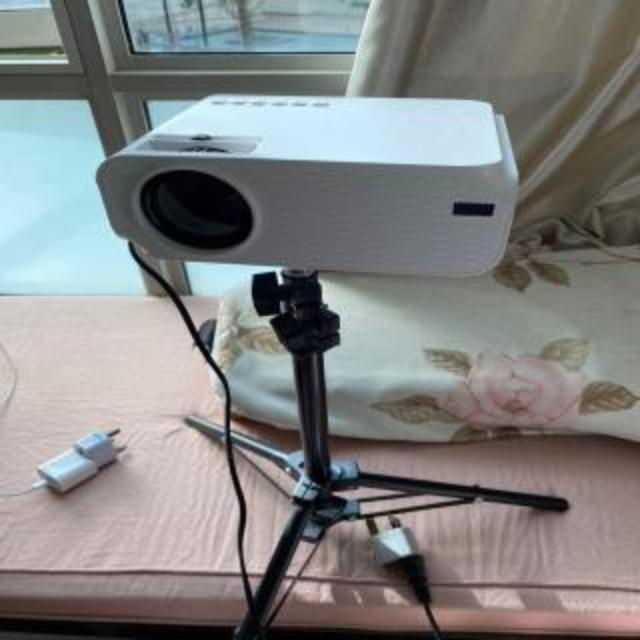Projector: (96, 98, 520, 278)
